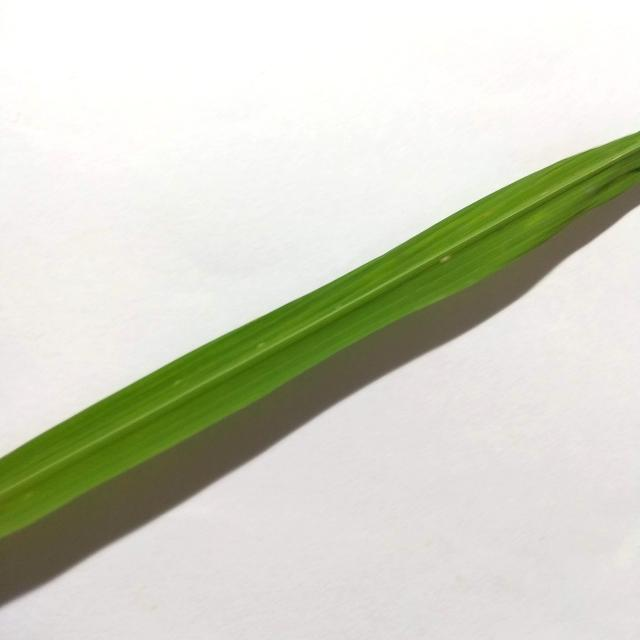Rice_Healthy: (0, 132, 640, 537)
